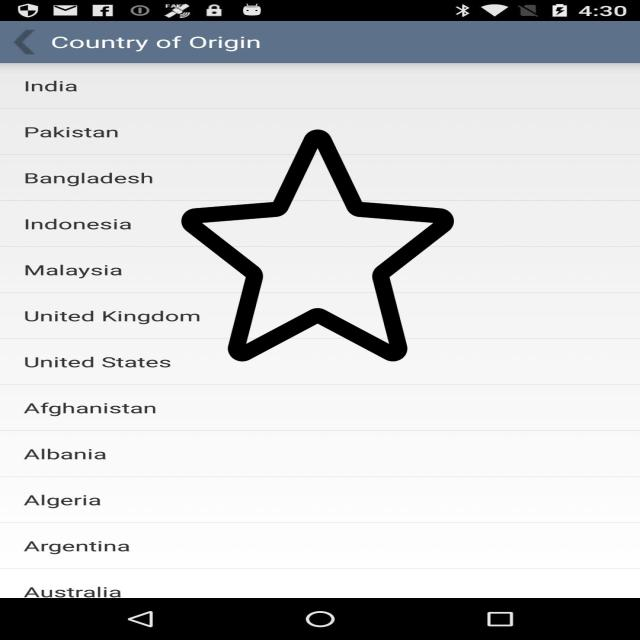forced continuity: (181, 125, 454, 366)
